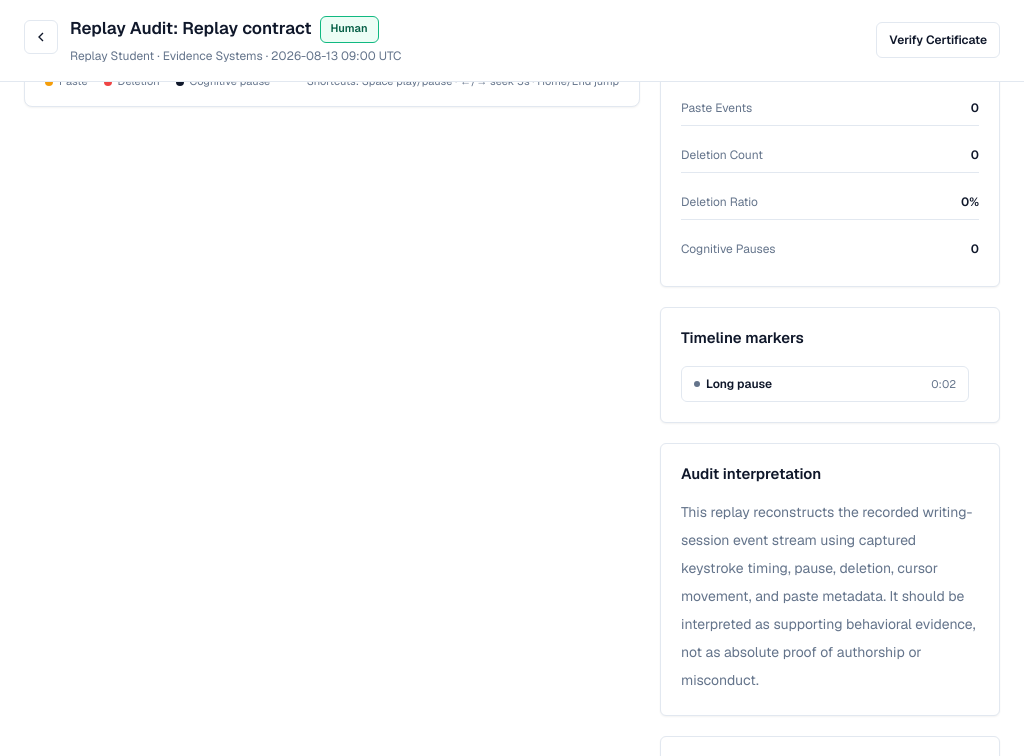
Test: ReplayPage › seeks from the scrub bar and from timeline marker controls
The width and height of the screenshot is (1024, 756).
(page scrolled)
Expected: the heading "Replay Audit: Replay contract" is shown, x1=70 y1=17 x2=312 y2=41
Click the button "Long pause 0:02": (739, 384) x1=681 y1=366 x2=969 y2=402
(page scrolled)
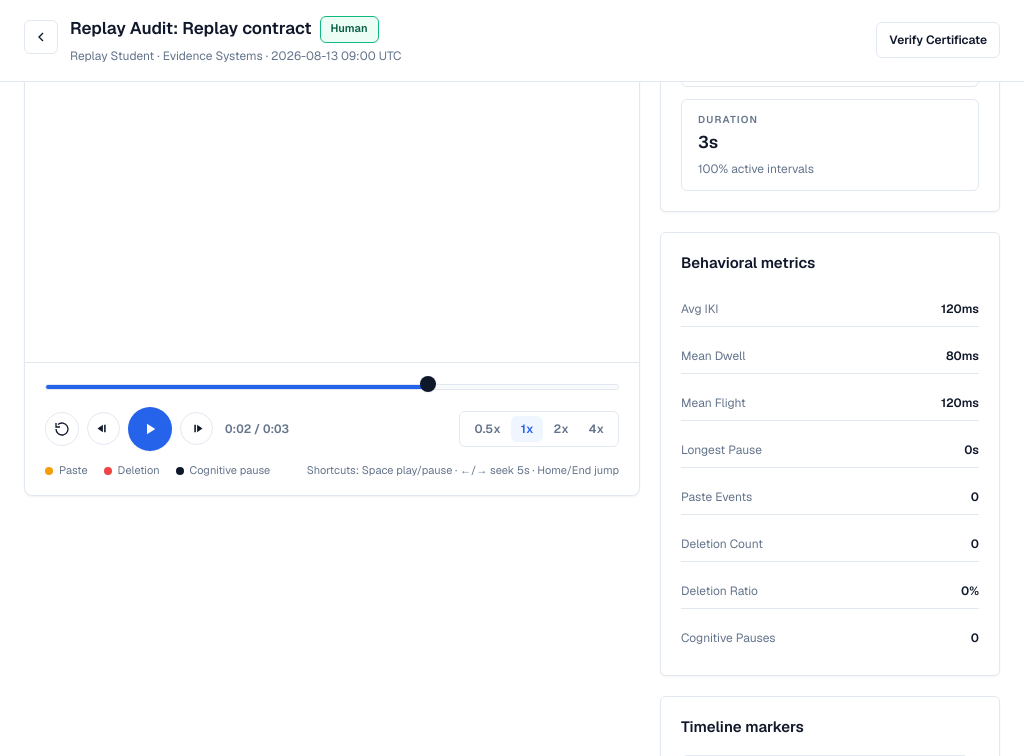
Now the text "0:02 / 0:03" is shown, box x1=225 y1=420 x2=289 y2=438
Click the 1st element titled "Pause: Long pause at": (332, 384) x1=45 y1=378 x2=619 y2=390
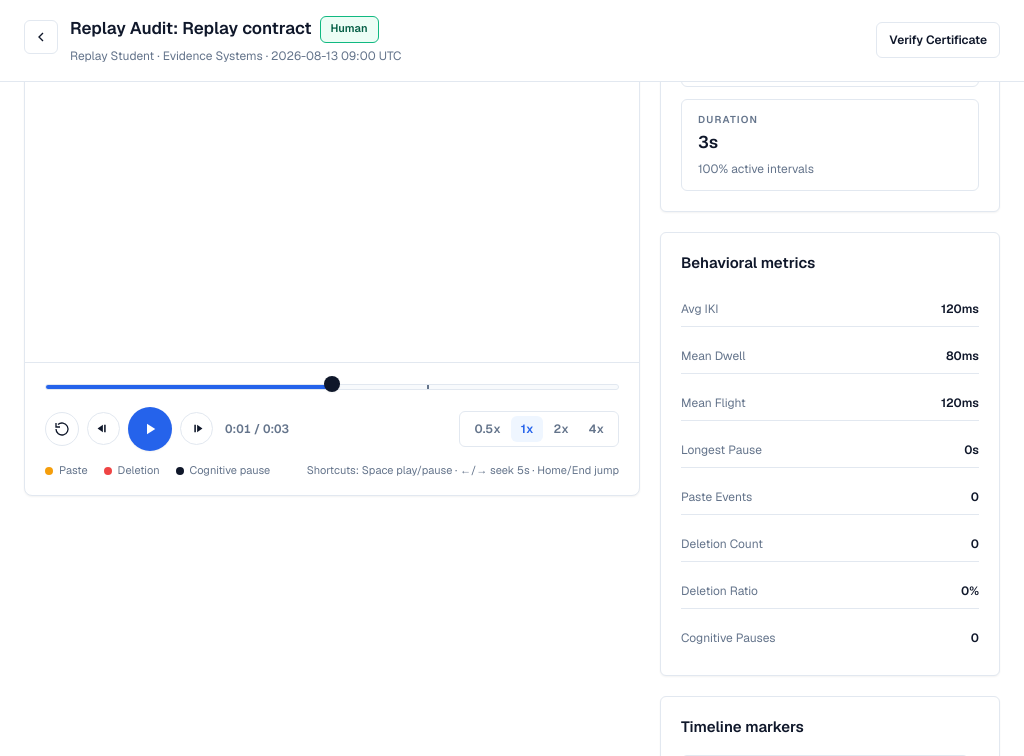
Now the text "0:01 / 0:03" is shown, box x1=225 y1=420 x2=289 y2=438
